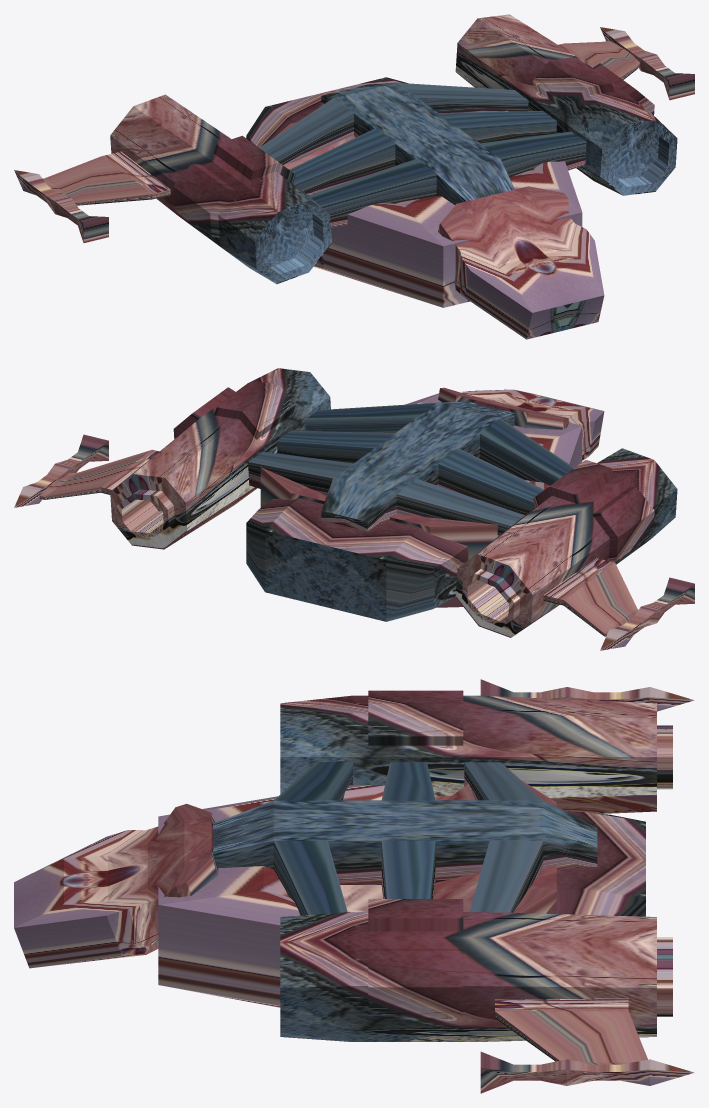
File: m1-ship4.obj
3 renders of one model, top to bottom at view 1: azimuth 30°, elevation 25°; view 2: azimuth 150°, elevation 25°; view 3: azimuth 270°, elevation 25°, orthographic. The views are drawn at different scales.
Parts seen in each view (by area): view 1: M1_Ship_4_Cube.050; view 2: M1_Ship_4_Cube.050; view 3: M1_Ship_4_Cube.050.
Part boxes in pixels (x1=…): M1_Ship_4_Cube.050: x1=14, y1=14, x2=694, y2=339; M1_Ship_4_Cube.050: x1=14, y1=368, x2=694, y2=650; M1_Ship_4_Cube.050: x1=14, y1=679, x2=694, y2=1093.
Bounding box in the file's own units: 52.89 × 9.57 × 39.18.
